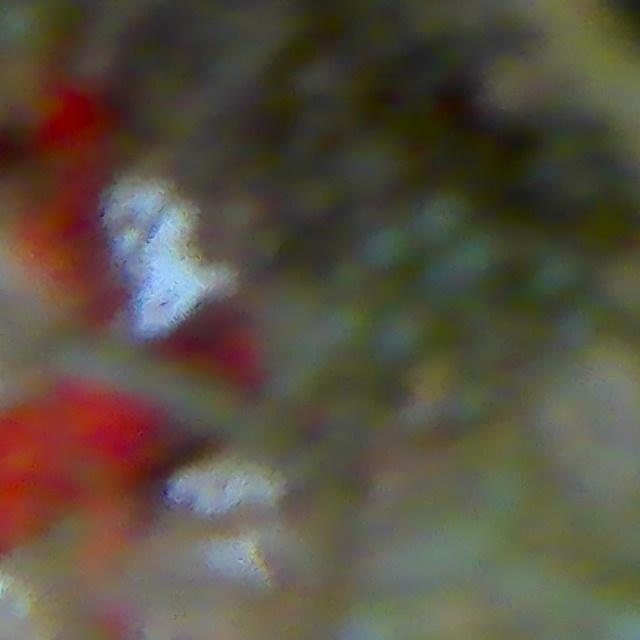SeaGrape: (428, 227, 508, 302), (336, 128, 411, 201), (371, 301, 435, 363), (412, 188, 474, 246), (0, 0, 56, 59), (361, 221, 415, 273)
